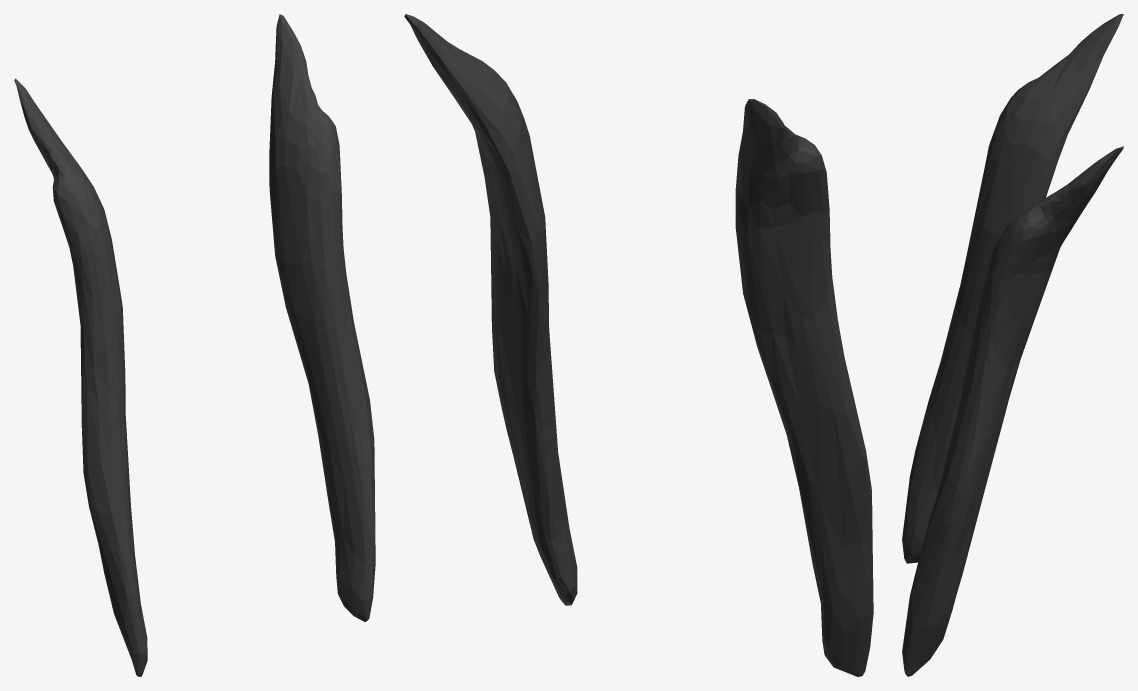
The model's file is m_sartorius_cranialis.glb.
3 renders of one model, left to right at view 1: azimuth 30°, elevation 25°; view 2: azimuth 150°, elevation 25°; view 3: azimuth 270°, elevation 25°, orthographic. The views are drawn at different scales.
Parts seen in each view (by area): view 1: m_sartorius_cranialis; view 2: m_sartorius_cranialis; view 3: m_sartorius_cranialis.
Part boxes in pixels (left/top/right/bottom): m_sartorius_cranialis: left=14, top=14, right=375, bottom=676; m_sartorius_cranialis: left=404, top=14, right=873, bottom=676; m_sartorius_cranialis: left=902, top=14, right=1123, bottom=676.
Size of the model in its own units: 0.00451 by 0.00794 by 0.00296.
Materials: 1 (1 with a texture image).
